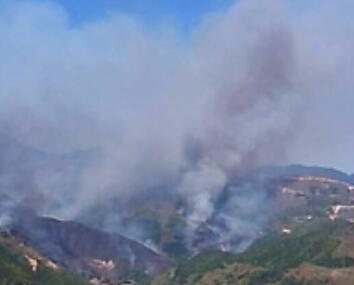yanwu: (0, 1, 353, 247)
